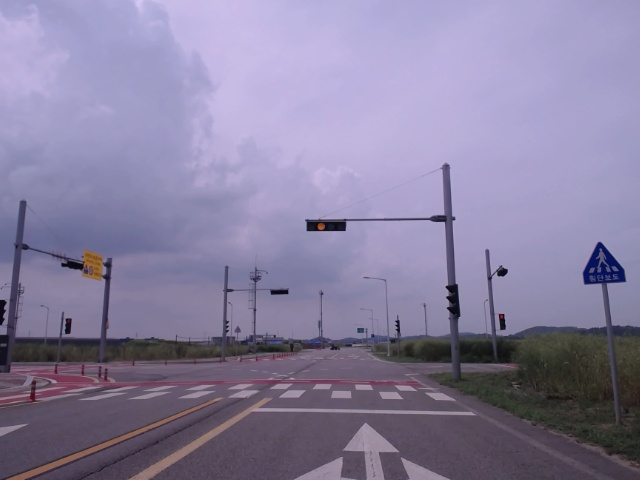orange_4: (305, 218, 346, 232)
